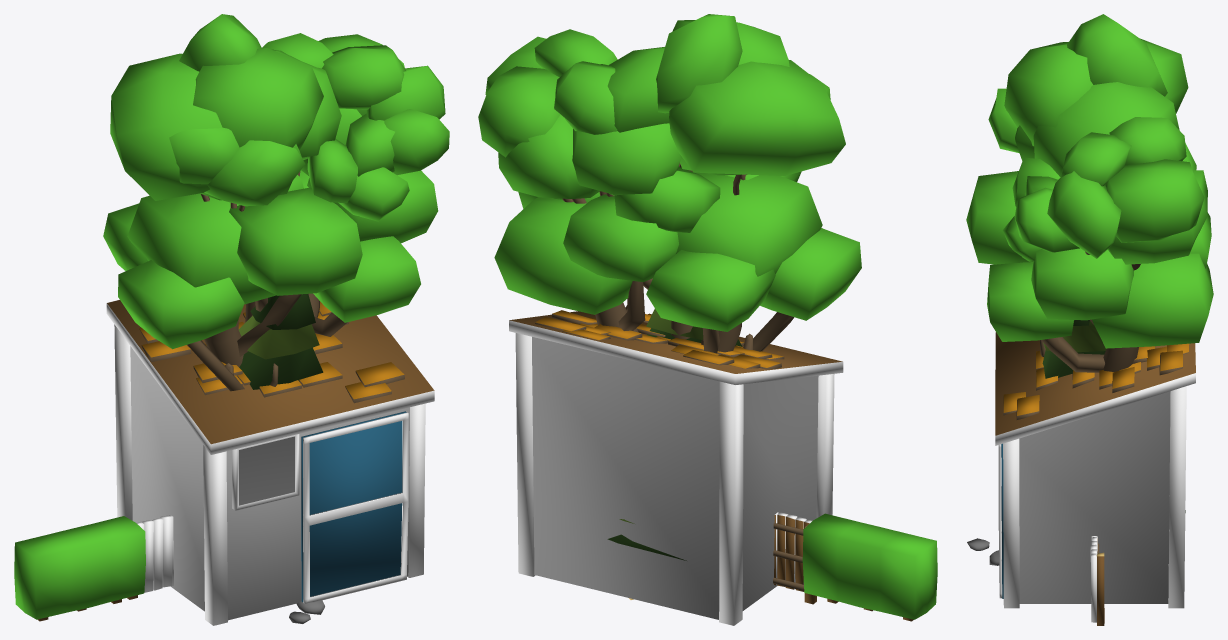
Rendered from PropsAppleRascals.fbx.
The picture shows the model from 3 angles, left to right: view 1: azimuth 30°, elevation 25°; view 2: azimuth 150°, elevation 25°; view 3: azimuth 270°, elevation 25°; orthographic projection. The views are drawn at different scales.
Parts seen in each view (by area): view 1: Cube, Tree, Tree3, Tree2, Hedge.001, FirTree, FenceOtherEnd; view 2: Cube, Tree, Tree3, Tree2, Hedge.001, FenceOtherEnd, FirTree; view 3: Cube, Tree3, Tree, Tree2, FirTree, FenceEnd, PathRocks.
Part boxes in pixels (<box>): Cube: <box>106,300,434,625</box>; Tree: <box>103,170,438,391</box>; Tree3: <box>110,14,449,311</box>; Tree2: <box>169,49,409,322</box>; Hedge.001: <box>14,516,145,621</box>; FirTree: <box>238,294,323,389</box>; FenceOtherEnd: <box>127,515,173,599</box>; Cube: <box>509,310,843,625</box>; Tree: <box>494,171,861,353</box>; Tree3: <box>478,14,845,202</box>; Tree2: <box>498,47,830,339</box>; Hedge.001: <box>802,513,937,621</box>; FenceOtherEnd: <box>773,512,816,604</box>; FirTree: <box>607,309,742,560</box>; Cube: <box>995,332,1195,608</box>; Tree3: <box>988,14,1204,270</box>; Tree: <box>966,171,1213,372</box>; Tree2: <box>1002,82,1207,324</box>; FirTree: <box>1042,320,1185,512</box>; FenceEnd: <box>1090,536,1104,625</box>; PathRocks: <box>967,538,999,565</box>.
Bounding box in the file's own units: 1959 × 2463 × 1046.
